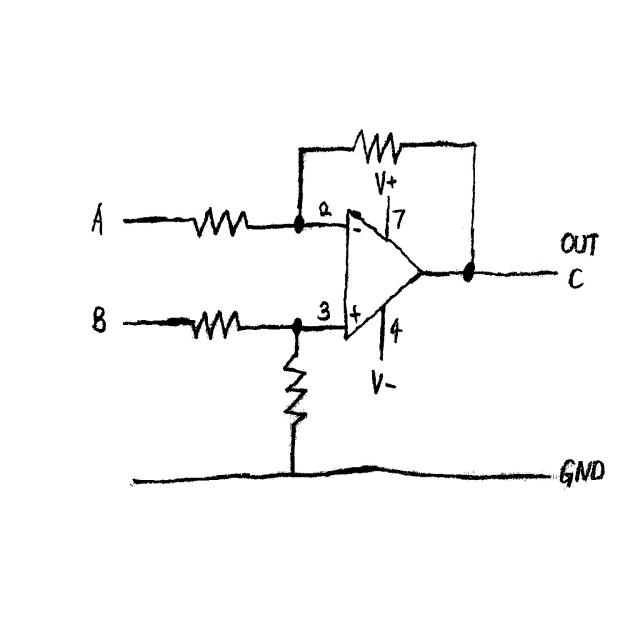junction: (459, 253, 483, 293), (286, 207, 308, 239), (284, 311, 307, 341), (292, 136, 315, 166), (282, 459, 303, 488), (464, 133, 481, 161)
resistor: (185, 204, 252, 246), (344, 126, 411, 166), (185, 308, 245, 347), (281, 349, 308, 431)
terminal: (116, 469, 151, 494), (118, 312, 148, 333), (540, 262, 565, 284), (116, 211, 142, 231), (530, 467, 556, 486)
text: (558, 454, 609, 489), (558, 227, 599, 259), (88, 302, 109, 338), (90, 199, 107, 237), (567, 264, 589, 292), (316, 298, 335, 322), (369, 367, 384, 397), (390, 206, 408, 229), (373, 168, 387, 196), (389, 318, 404, 344), (316, 198, 332, 219), (349, 303, 362, 325), (384, 376, 397, 398), (388, 172, 398, 189), (352, 222, 362, 239)
